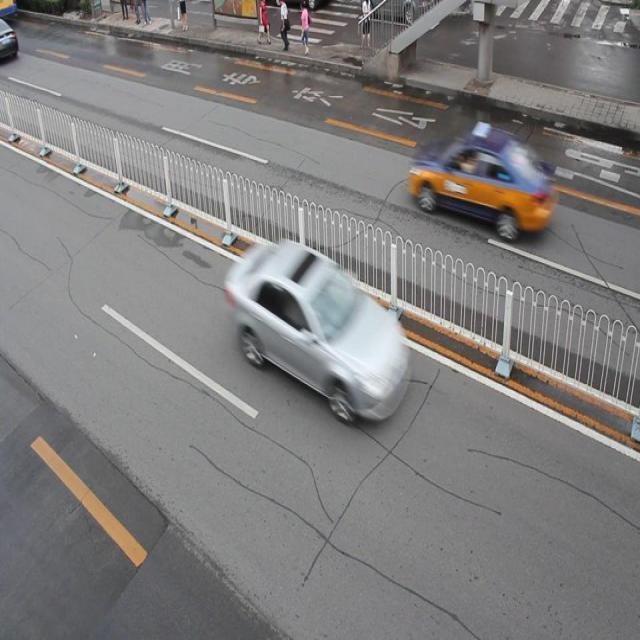car: (226, 235, 410, 420), (408, 122, 554, 242)
